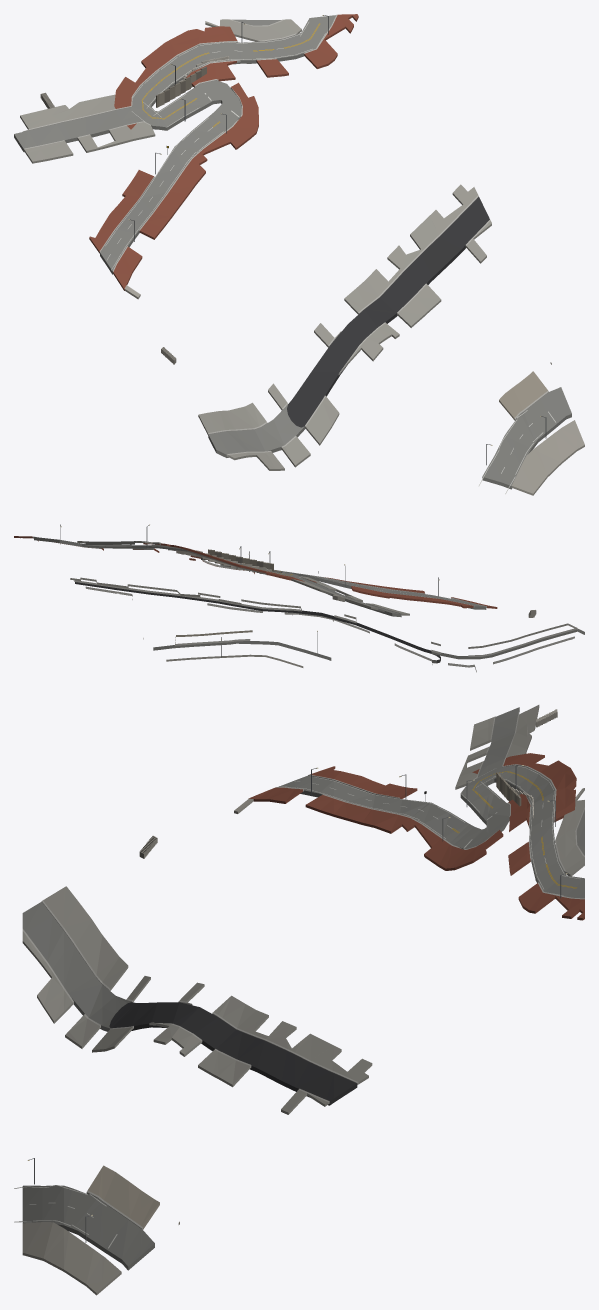
3 views of the same model, one above another, from view 1: azimuth 30°, elevation 25°; view 2: azimuth 150°, elevation 25°; view 3: azimuth 270°, elevation 25° (orthographic). The views are drawn at different scales.
Size of the model in its own units: 147 by 117 by 148.
